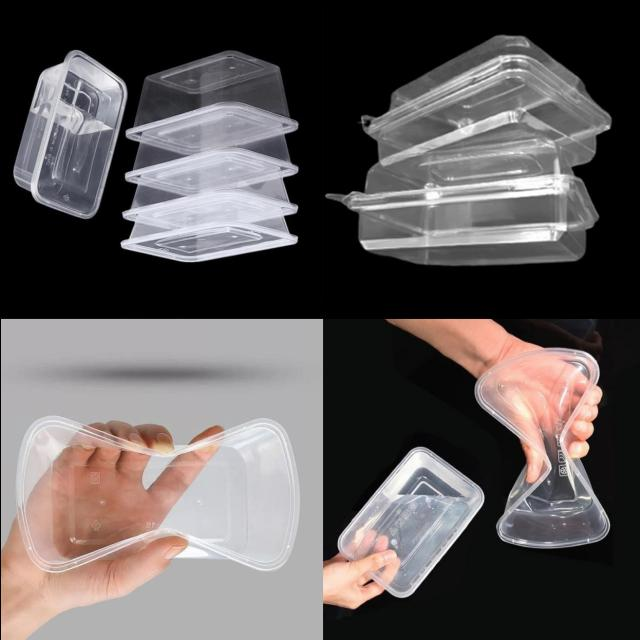plastik: (15, 416, 298, 571), (327, 123, 597, 264), (362, 35, 608, 165), (474, 348, 608, 547), (337, 446, 483, 597), (13, 50, 126, 218), (126, 50, 296, 154), (124, 102, 296, 193), (122, 147, 296, 228), (120, 188, 296, 261)
